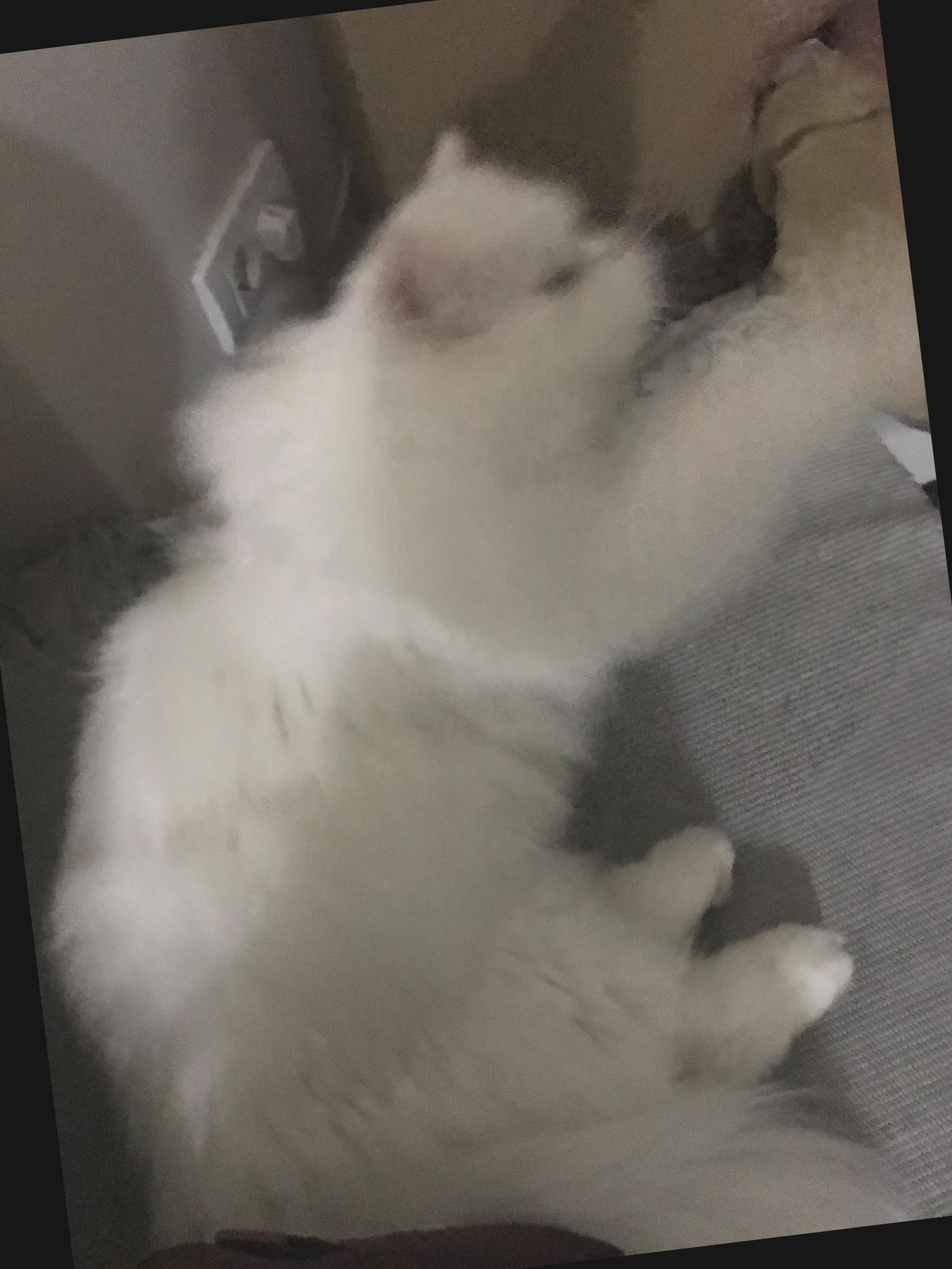macka: (0, 84, 945, 1269)
